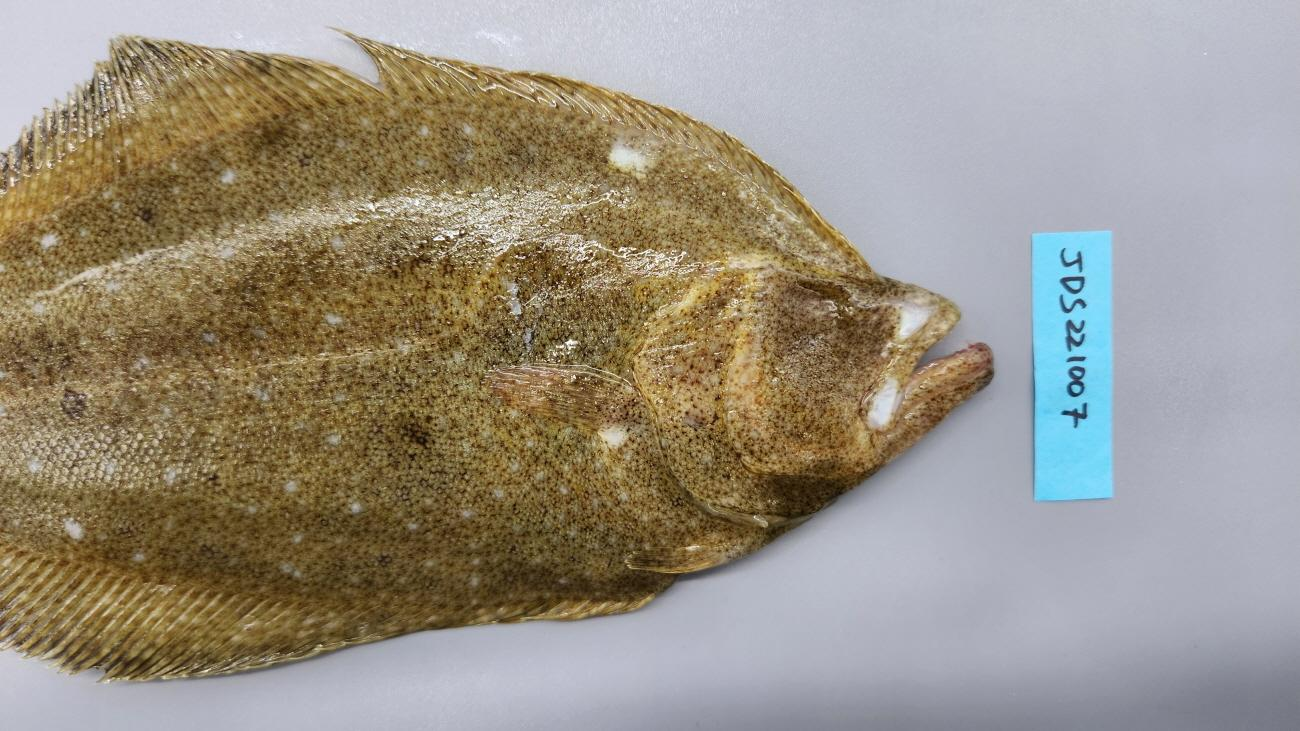VIMOU: (860, 294, 993, 433)
